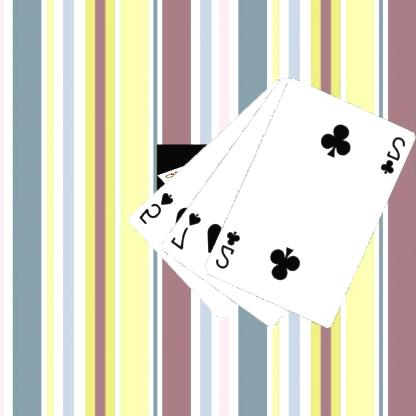2C: (214, 228, 243, 271), (379, 134, 408, 176)
5S: (138, 189, 176, 226)
7S: (168, 209, 204, 251)
